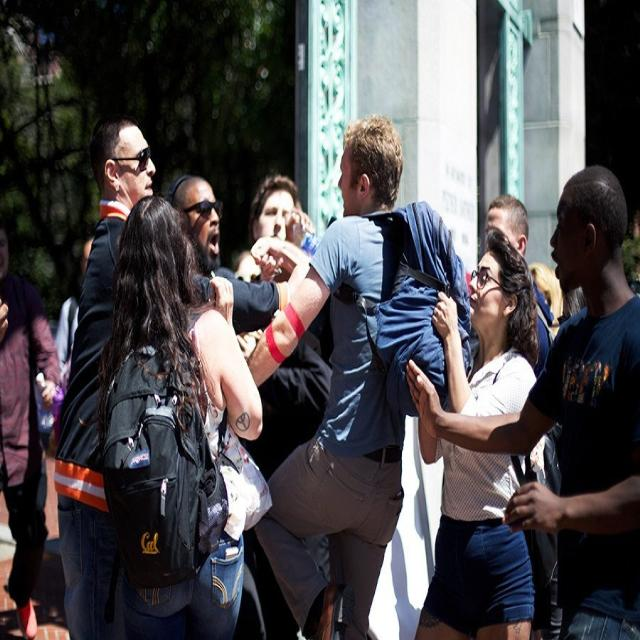body: (51, 106, 332, 639), (244, 110, 474, 640), (402, 163, 640, 639), (96, 194, 264, 639), (395, 224, 547, 639), (484, 191, 564, 639), (0, 191, 66, 639), (29, 232, 94, 624), (165, 172, 314, 337), (526, 254, 585, 341), (230, 244, 266, 357), (250, 173, 300, 243)
